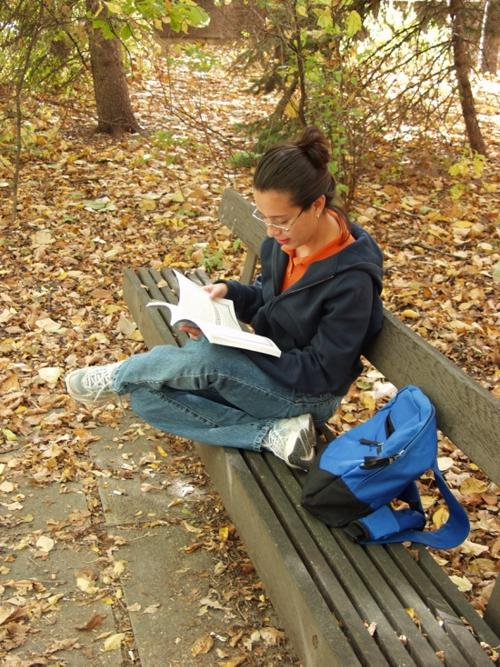person: (65, 126, 384, 479)
